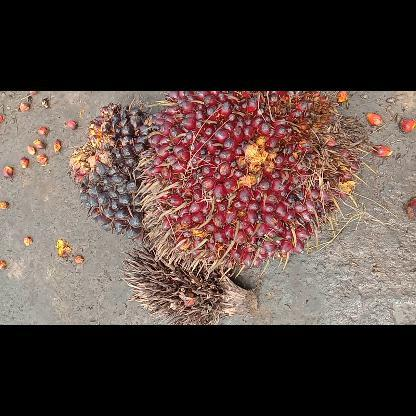Janjang kosong: (119, 244, 258, 324)
TBS masak: (134, 90, 366, 280)
TBS mentah: (69, 104, 160, 238)
